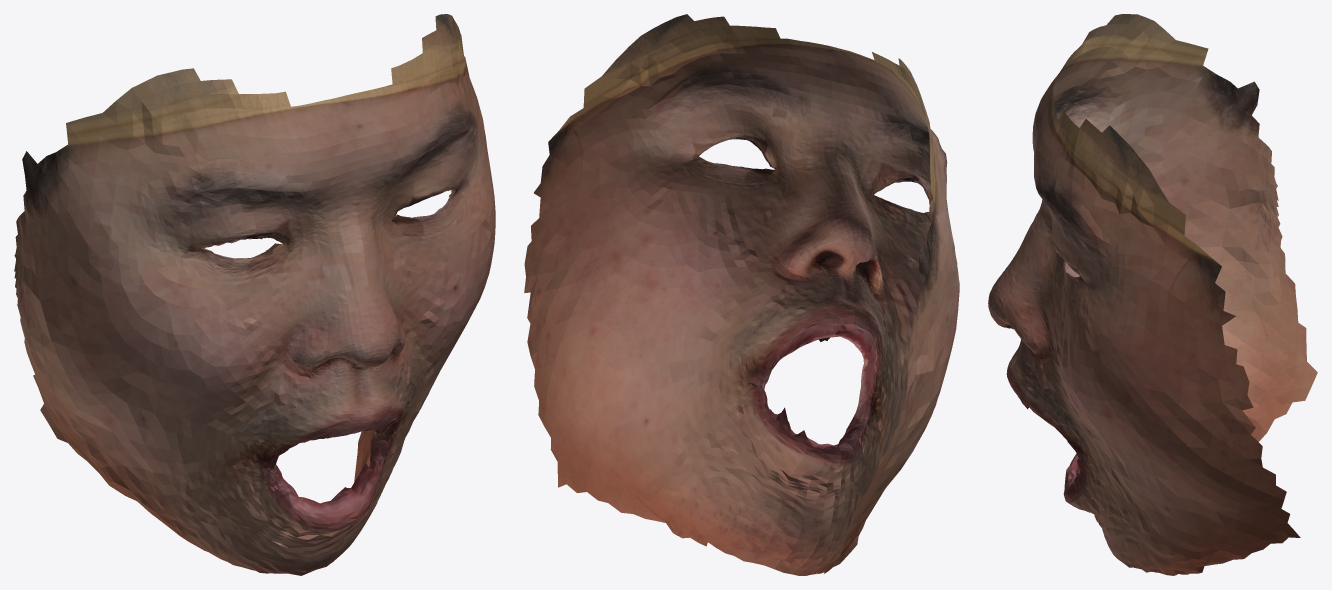
Rendered from 3_mouth_stretch.obj.
3 views of the same model, side by side, from view 1: azimuth 30°, elevation 25°; view 2: azimuth 150°, elevation 25°; view 3: azimuth 270°, elevation 25° (orthographic). The views are drawn at different scales.
Bounding box in the file's own units: 174 × 212 × 127.
Materials: 1 (1 with a texture image).
